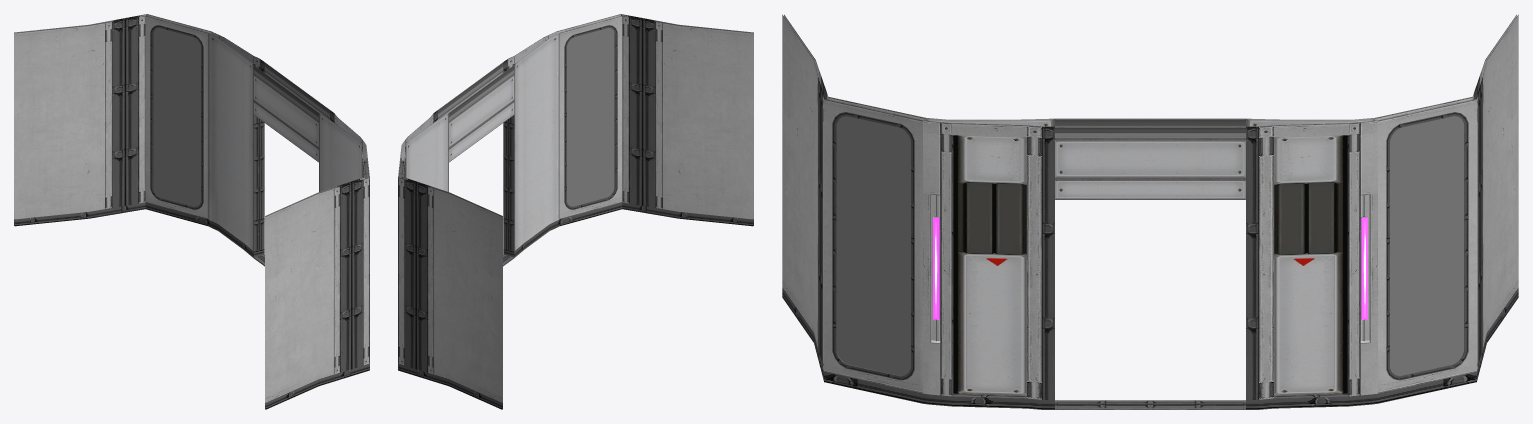
Rendered from Pre_Elevator_entb_LOW.FBX.
3 renders of one model, left to right at view 1: azimuth 30°, elevation 25°; view 2: azimuth 150°, elevation 25°; view 3: azimuth 270°, elevation 25°, orthographic. The views are drawn at different scales.
Visible parts, largest first — view 1: Pre_Elevator_entb_LOW; view 2: Pre_Elevator_entb_LOW; view 3: Pre_Elevator_entb_LOW.
Boxes of the visible parts, <box> form: Pre_Elevator_entb_LOW: <box>14,14,369,409</box>; Pre_Elevator_entb_LOW: <box>398,14,753,409</box>; Pre_Elevator_entb_LOW: <box>782,14,1518,409</box>.
Bounding box in the file's own units: 3.41 × 4 × 9.43.
